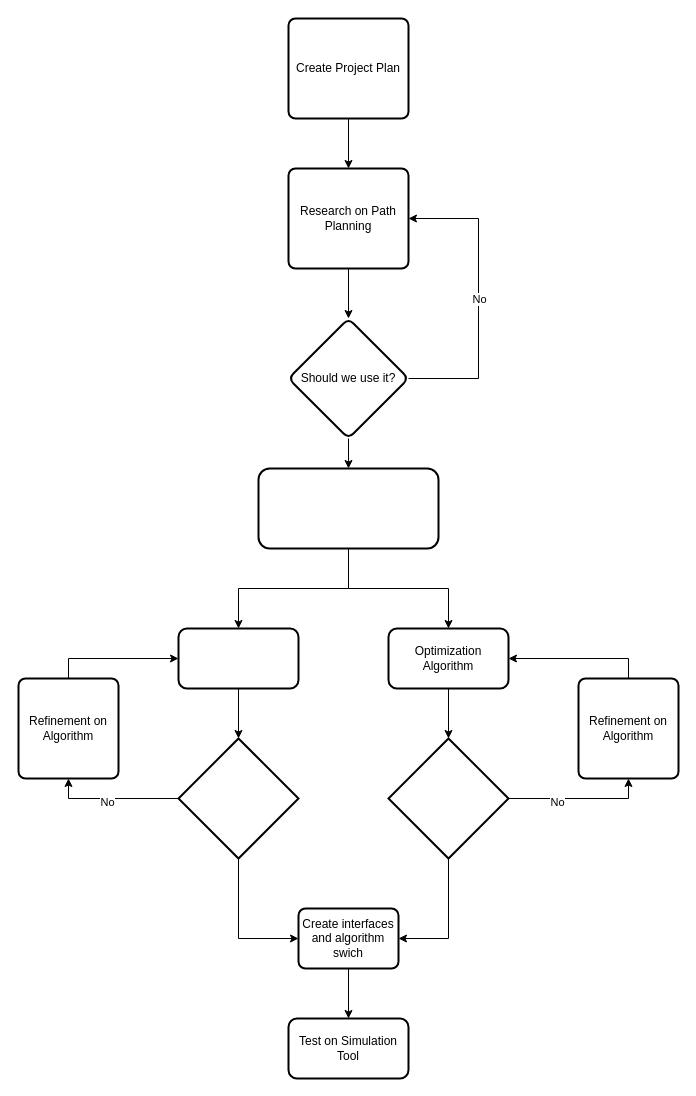
This 696x1096 diagram has some shape labels left out. The shapes that lost their labels are listed below. From the top down, each one's centre as x and y in pixels, then its label:
At [348,508]: "Split Problem in two small ones".
At [238,658]: "Exploration Algorithm".
At [238,798]: "Does it meet our cirterion?".
At [448,798]: "Does it meat our cirterion?".
